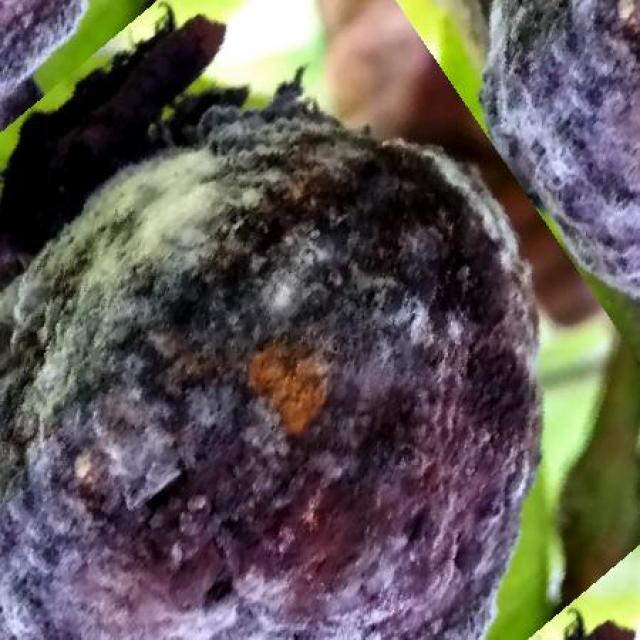Phytopthora: (0, 98, 539, 639)
